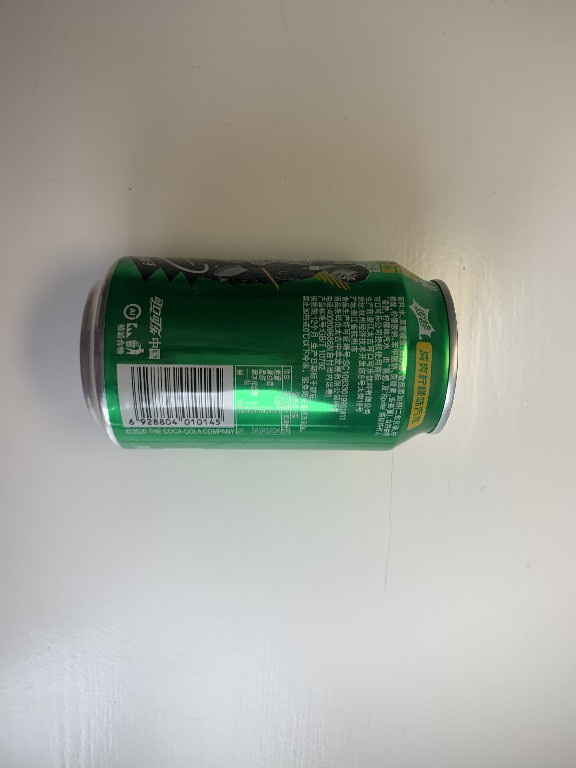can: (73, 251, 463, 458)
